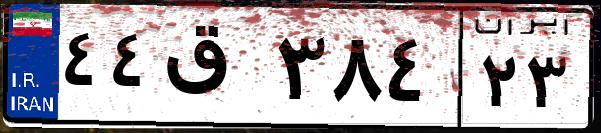2: (475, 38, 525, 113)
3: (270, 28, 330, 110), (525, 38, 570, 115)
4: (385, 28, 445, 110), (57, 26, 110, 100), (110, 28, 158, 98)
8: (330, 28, 385, 110)
ق: (158, 20, 270, 120)
